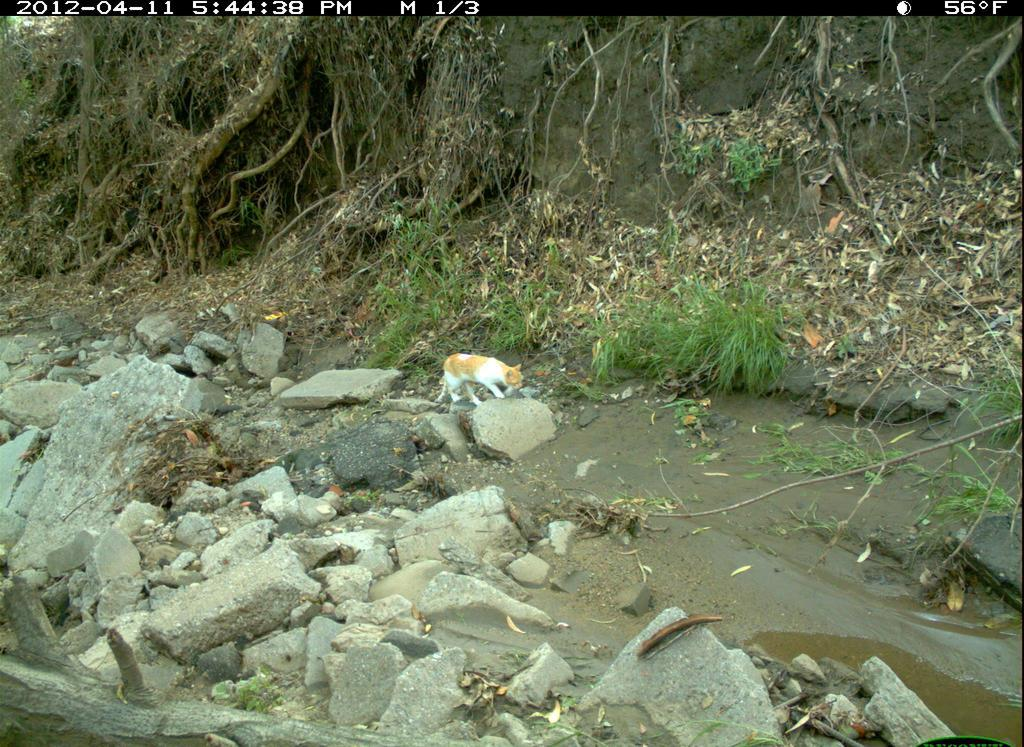cat: (424, 351, 537, 413)
